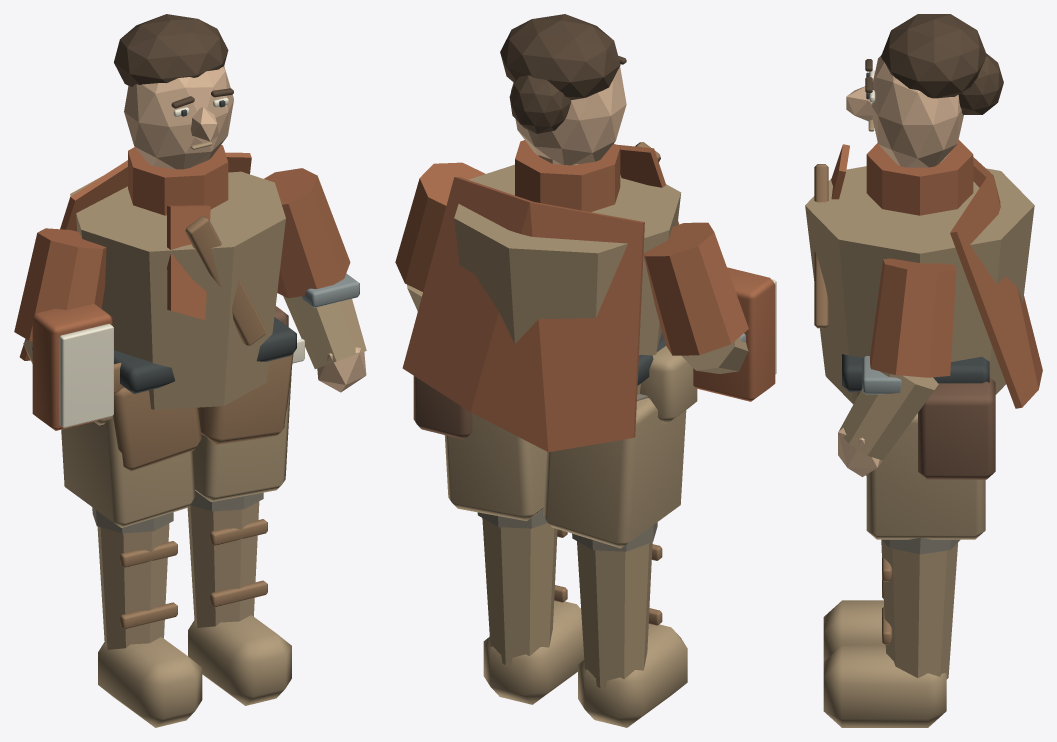
The model's file is model_ahe.glb.
The picture shows the model from 3 angles, left to right: view 1: azimuth 30°, elevation 25°; view 2: azimuth 150°, elevation 25°; view 3: azimuth 270°, elevation 25°; orthographic projection. The views are drawn at different scales.
Visible parts, largest first — view 1: coat torso.003, long coat panel, head.003, boot toe.006, upper sleeve.007, boot toe.007, shin leather boot.006, shin leather boot.007, upper sleeve.006, tied hair crown, long coat panel.001, ledger page block (+18 smaller); view 2: short travel cloak.003, coat torso.003, long coat panel, upper sleeve.006, shin leather boot.006, shin leather boot.007, long coat panel.001, tied hair crown, boot toe.006, boot toe.007, ledger cover, scarf collar.001 (+9 smaller); view 3: coat torso.003, upper sleeve.007, long coat panel.001, boot toe.007, short travel cloak.003, shin leather boot.007, satchel, tied hair crown, head.003, scarf collar.001, forearm leather bracer.007, boot toe.006 (+8 smaller).
Boxes of the visible parts, bbox=[...] form: coat torso.003: bbox=[70, 171, 285, 409]; long coat panel: bbox=[61, 416, 195, 527]; head.003: bbox=[124, 66, 233, 169]; boot toe.006: bbox=[98, 637, 202, 727]; upper sleeve.007: bbox=[264, 168, 350, 298]; boot toe.007: bbox=[188, 615, 291, 705]; shin leather boot.006: bbox=[97, 523, 169, 649]; shin leather boot.007: bbox=[187, 501, 259, 627]; upper sleeve.006: bbox=[14, 228, 106, 341]; tied hair crown: bbox=[114, 14, 228, 86]; long coat panel.001: bbox=[192, 368, 291, 501]; ledger page block: bbox=[59, 324, 113, 427]; short travel cloak.003: bbox=[402, 177, 644, 452]; coat torso.003: bbox=[454, 164, 681, 394]; long coat panel: bbox=[543, 398, 686, 548]; upper sleeve.006: bbox=[643, 222, 748, 355]; shin leather boot.006: bbox=[577, 541, 652, 688]; shin leather boot.007: bbox=[482, 518, 557, 665]; long coat panel.001: bbox=[444, 413, 546, 521]; tied hair crown: bbox=[500, 14, 620, 100]; boot toe.006: bbox=[578, 624, 687, 727]; boot toe.007: bbox=[483, 601, 584, 704]; ledger cover: bbox=[693, 267, 775, 401]; scarf collar.001: bbox=[515, 140, 620, 212]; coat torso.003: bbox=[805, 166, 1034, 404]; upper sleeve.007: bbox=[870, 258, 956, 377]; long coat panel.001: bbox=[866, 413, 985, 539]; boot toe.007: bbox=[823, 645, 946, 727]; short travel cloak.003: bbox=[950, 157, 1042, 408]; shin leather boot.007: bbox=[881, 540, 957, 679]; satchel: bbox=[918, 377, 995, 479]; tied hair crown: bbox=[881, 14, 986, 98]; head.003: bbox=[872, 55, 963, 167]; scarf collar.001: bbox=[866, 140, 973, 215]; forearm leather bracer.007: bbox=[839, 371, 938, 460]; boot toe.006: bbox=[823, 600, 885, 661].
Bounding box in the file's own units: 0.9348 × 1.83 × 0.58.
